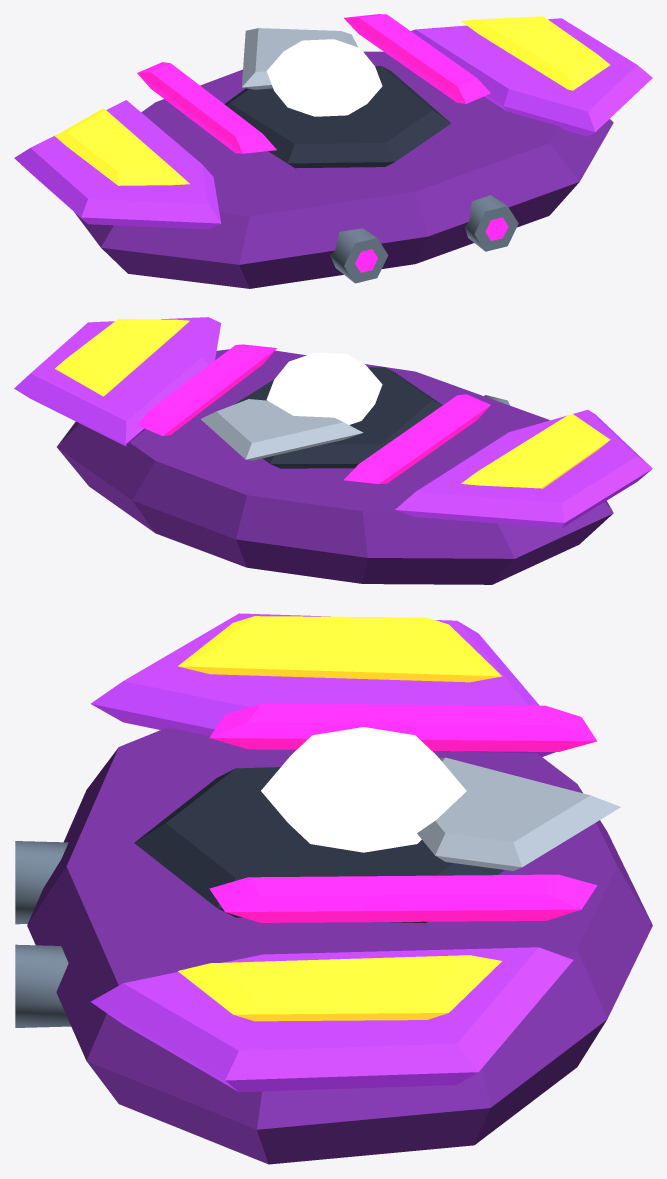
File: boss_bulwark_mockup.glb
3 views of the same model, one above another, from view 1: azimuth 30°, elevation 25°; view 2: azimuth 150°, elevation 25°; view 3: azimuth 270°, elevation 25° (orthographic). The views are drawn at different scales.
Visible parts, largest first — view 1: BOSS // BULWARK ARRAY; view 2: BOSS // BULWARK ARRAY; view 3: BOSS // BULWARK ARRAY.
Boxes of the visible parts, x1,y1,x2,y2 form: BOSS // BULWARK ARRAY: (14, 14, 652, 288); BOSS // BULWARK ARRAY: (14, 317, 652, 584); BOSS // BULWARK ARRAY: (15, 613, 652, 1164).
Size of the model in its own units: 10.06 by 2.52 by 5.97.
